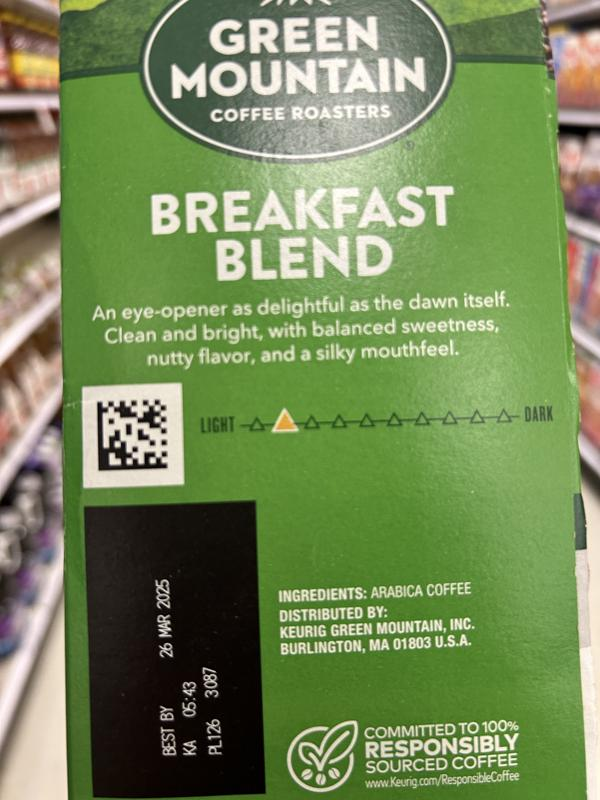ingredients: (274, 578, 479, 606)
